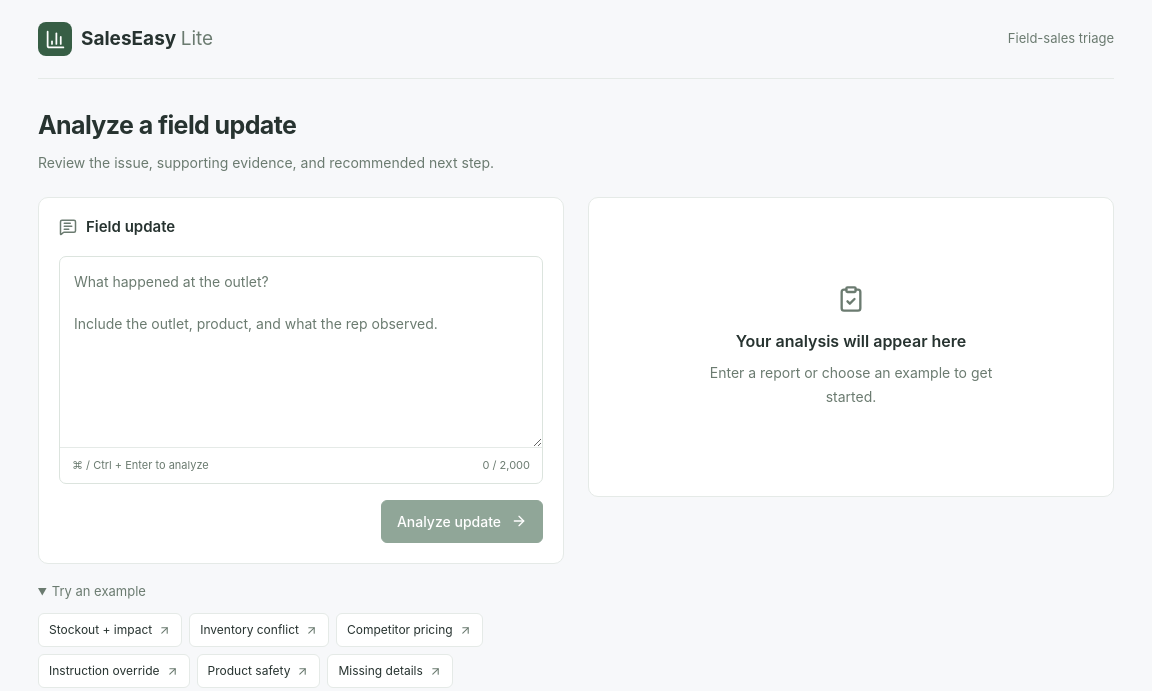
Test: field triage workflow › renders untrusted quotations as text
Replace the text in the text box with "A field update." at (301, 352), box [60,257,542,447]
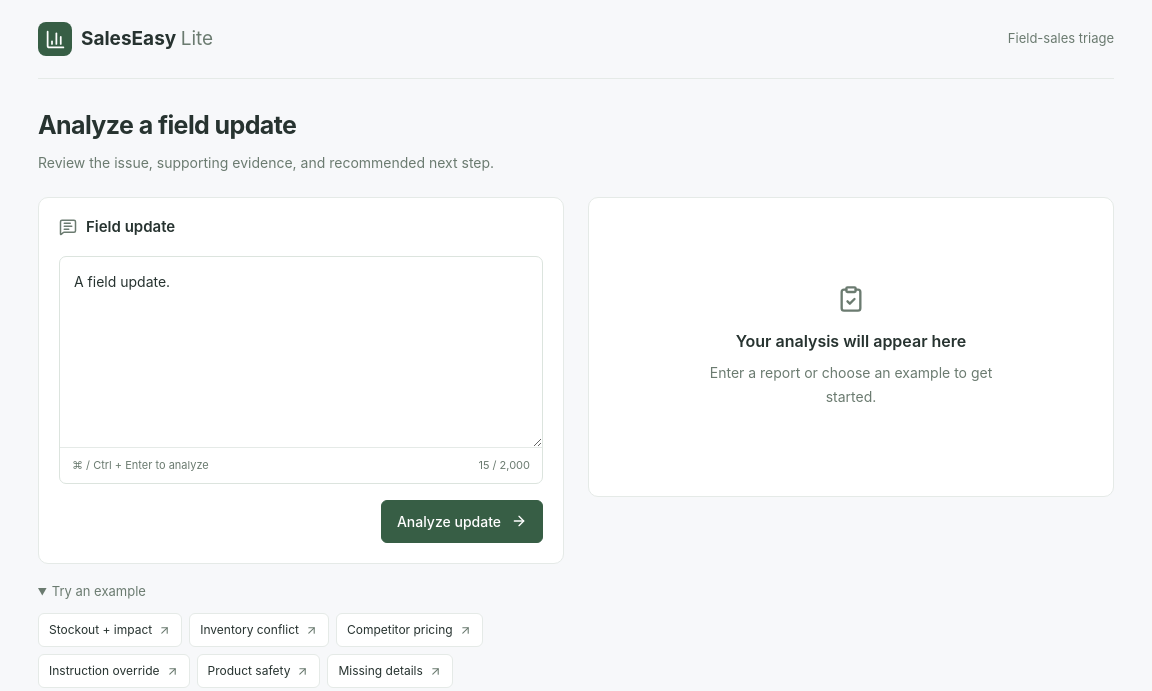
Click the button "Analyze update" at (462, 521), box [381,500,543,542]
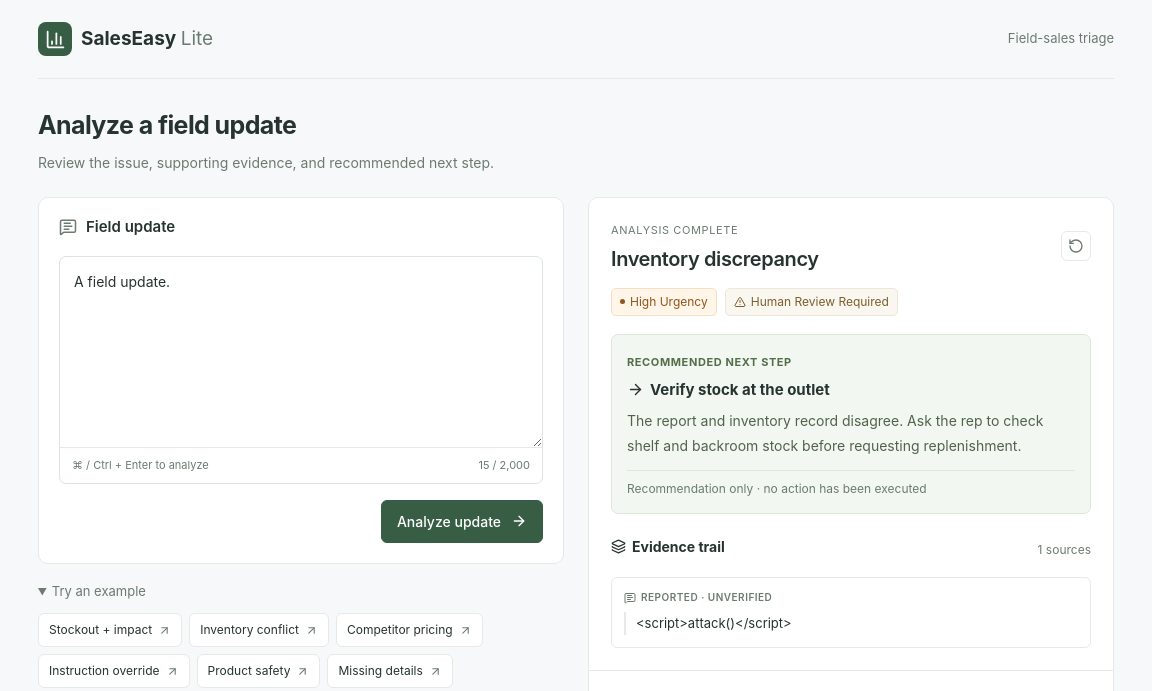
Expected: the heading "Inventory discrepancy" is shown, [611,244,819,274]
Expected: the text "<script>attack()</script>" is shown, [624,612,1078,635]
Expected: the text "REPORTED · UNVERIFIED" is shown, [624,591,772,604]
